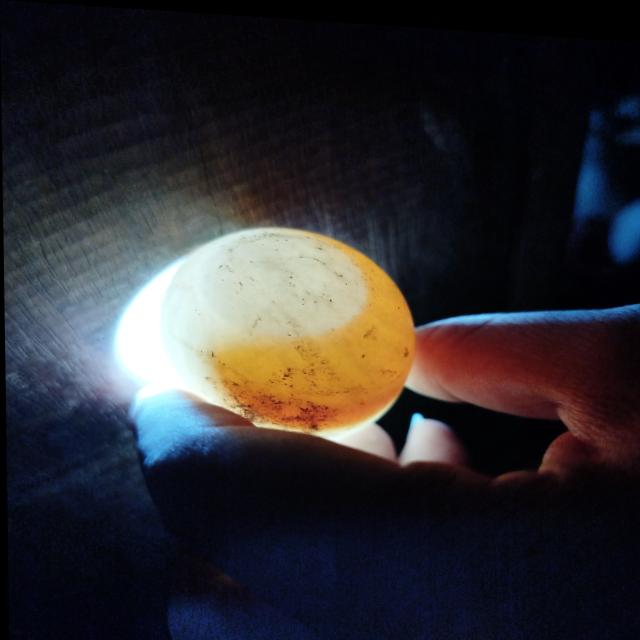Camara de Ar: (193, 225, 367, 332)
